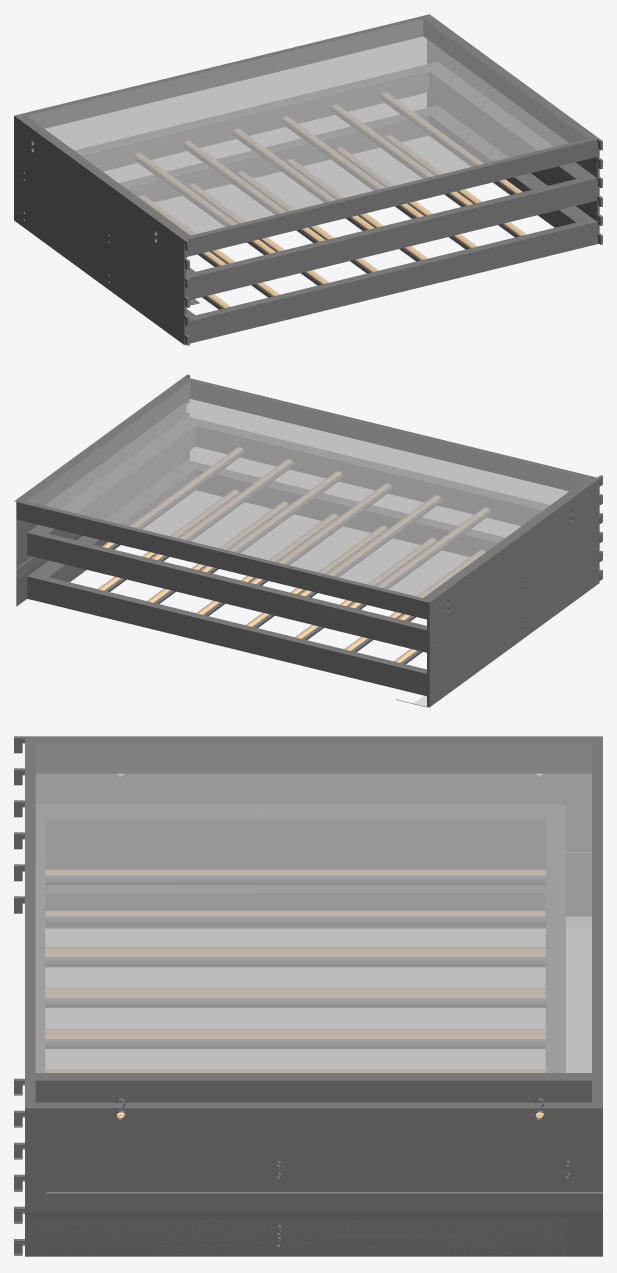
The picture shows the model from 3 angles, top to bottom: view 1: azimuth 30°, elevation 25°; view 2: azimuth 150°, elevation 25°; view 3: azimuth 270°, elevation 25°; orthographic projection. The views are drawn at different scales.
Visible parts, largest first — view 1: Geom3D (×7); view 2: Geom3D (×7); view 3: Geom3D (×8).
Boxes of the visible parts, x1,y1,x2,y2 form: Geom3D (×7): [14, 14, 602, 345]; Geom3D (×7): [14, 374, 602, 707]; Geom3D (×8): [14, 736, 602, 1256].
Size of the model in its own units: 0.7471 by 0.181 by 0.54.
